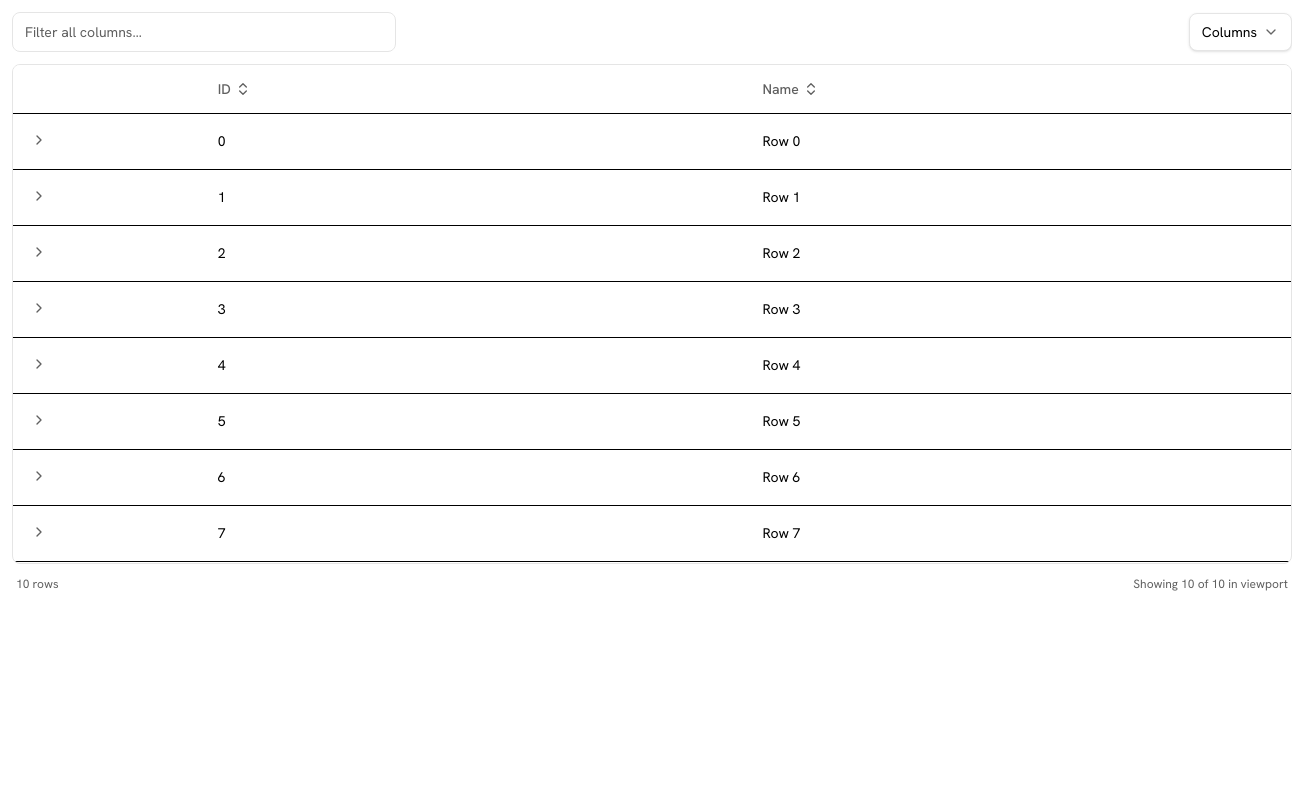
DataTable expandable rows (Epic 23) › supports expand + collapse in sequence across multiple rows without losing any row from the list
Click the button named "Expand row" in the row of "Row 1" at (39, 196), box [29, 186, 49, 206]
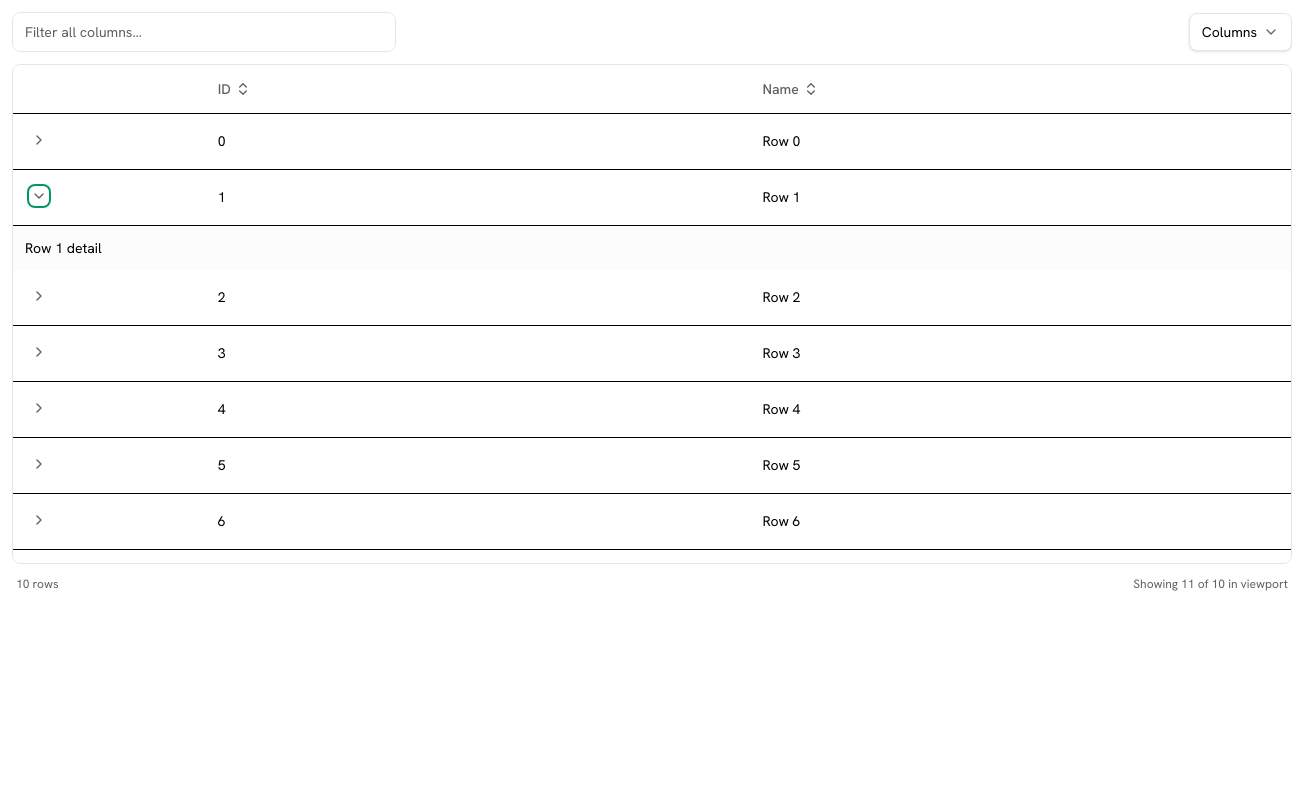
expect the text "Row 1 detail" is shown: met, box [25, 238, 102, 256]
Click the button named "Expand row" in the row of "Row 4" at (39, 408), box [29, 398, 49, 418]
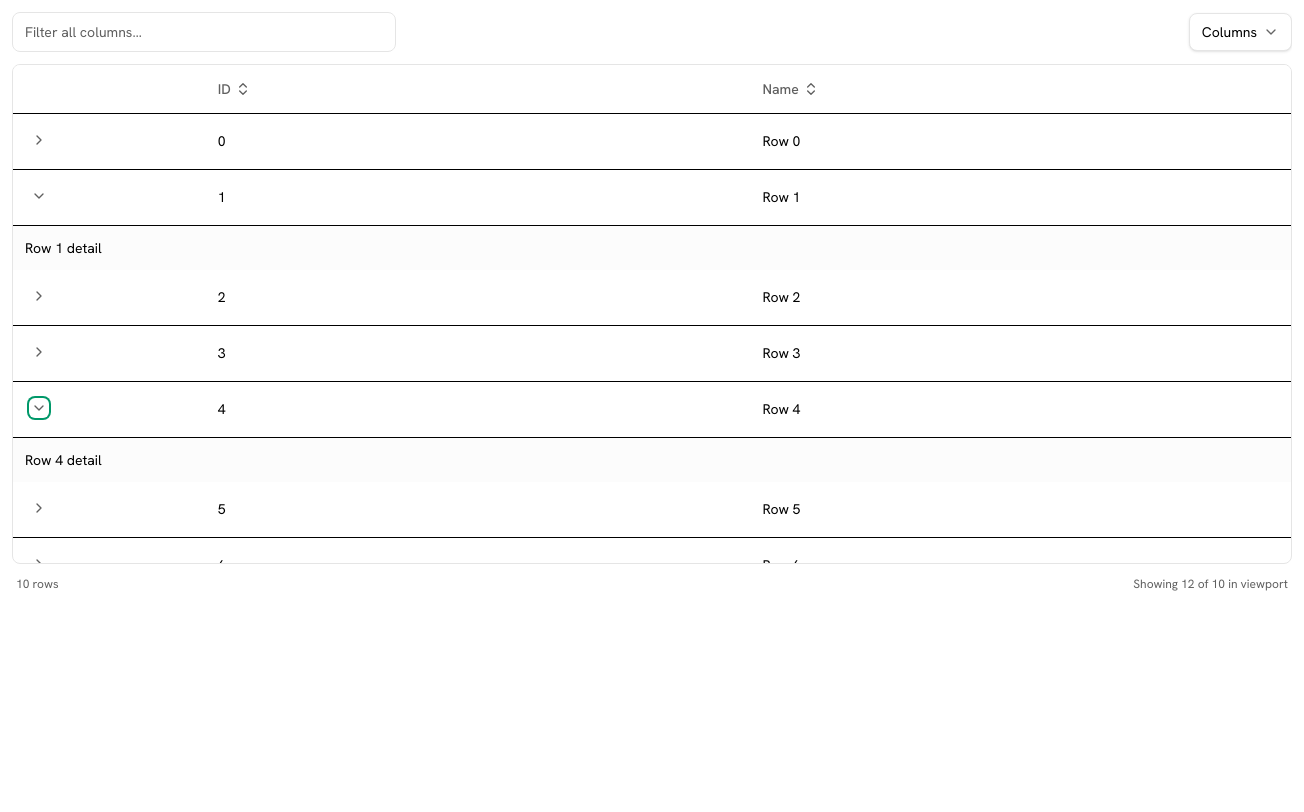
expect the text "Row 4 detail" is shown: met, box [25, 450, 102, 468]
# Collapse the first one while the second is still expanded.
Click the 1st button named "Collapse row" at (39, 196), box [29, 186, 49, 206]
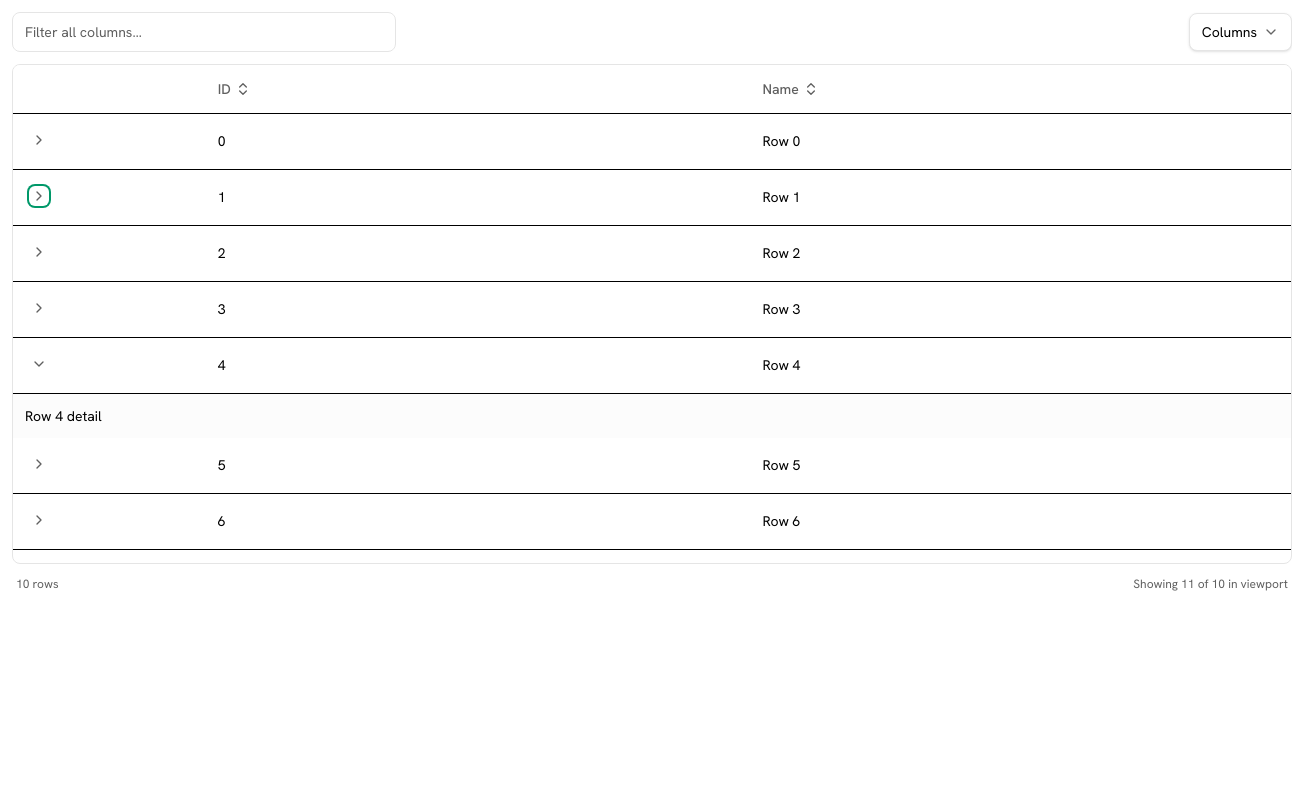
expect the text "Row 4 detail" is shown: met, box [25, 406, 102, 424]
expect the text "Row 1 detail" is gone: met
# Collapse the remaining one — back to a fully-collapsed table.
Click the button named "Collapse row" at (39, 364), box [29, 354, 49, 374]
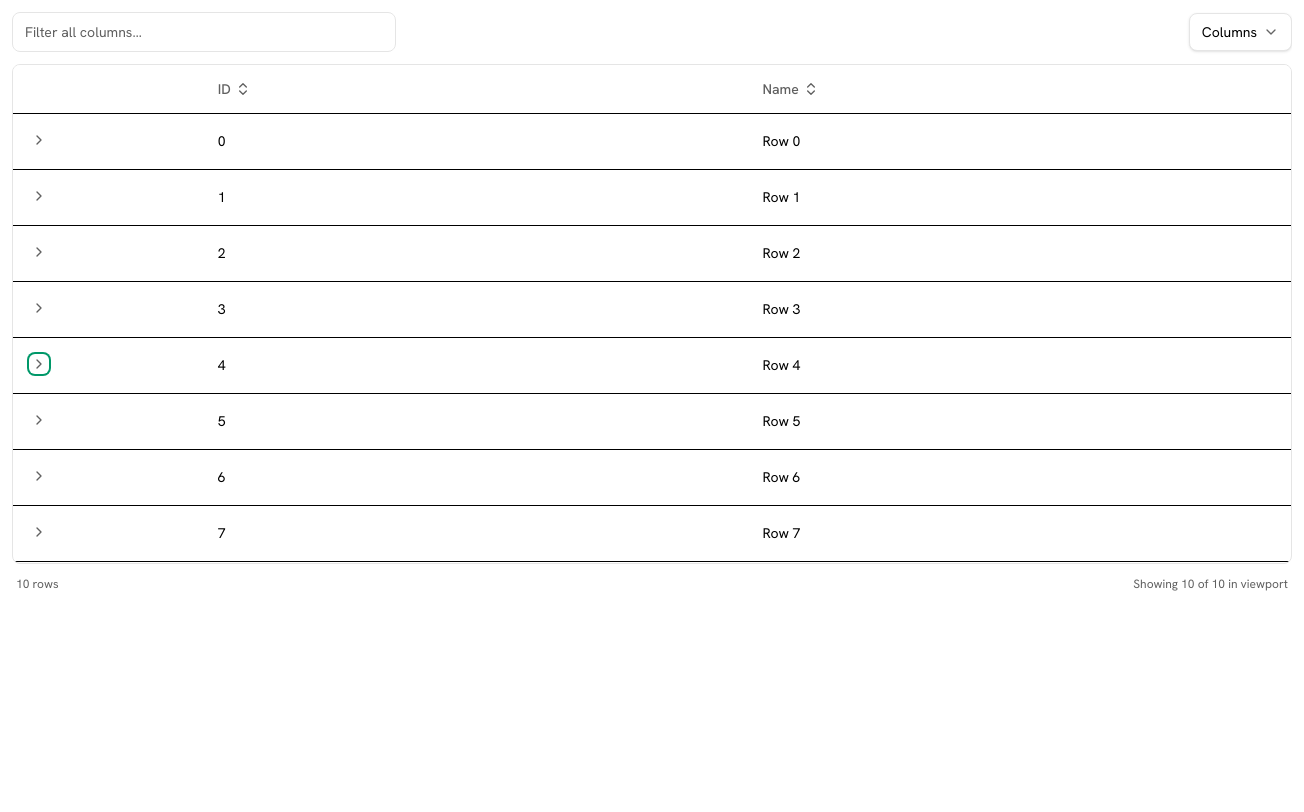
expect the text "Row 4 detail" is gone: met
